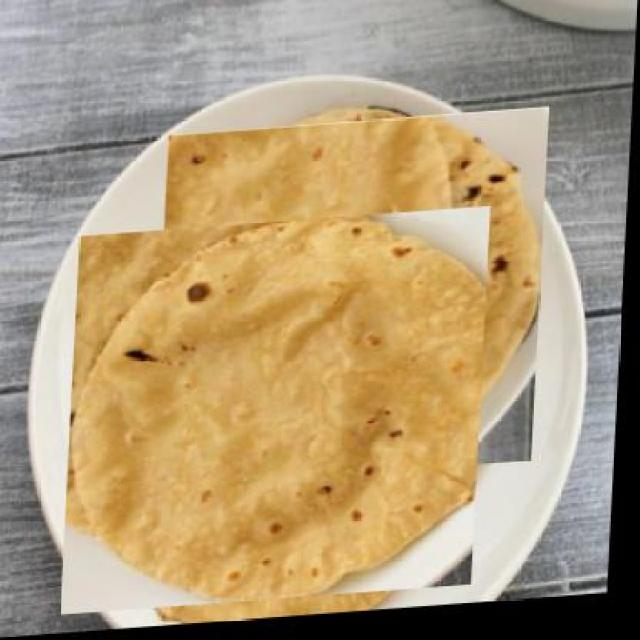chapati: (74, 205, 488, 624), (162, 108, 546, 500)
